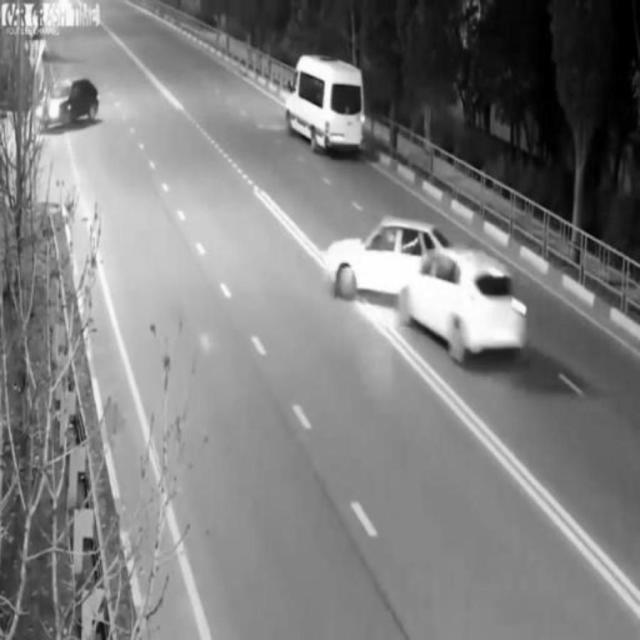accident: (328, 213, 532, 364)
vehicle: (285, 50, 373, 153), (40, 77, 100, 132)
